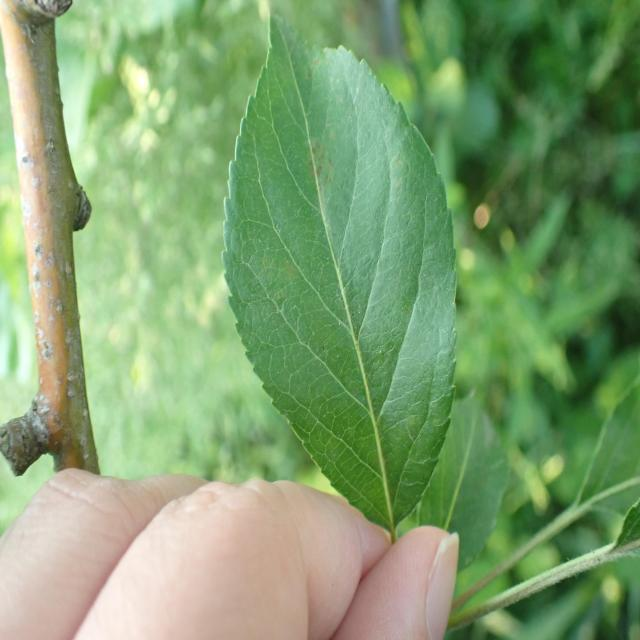scab: (269, 41, 449, 345)
